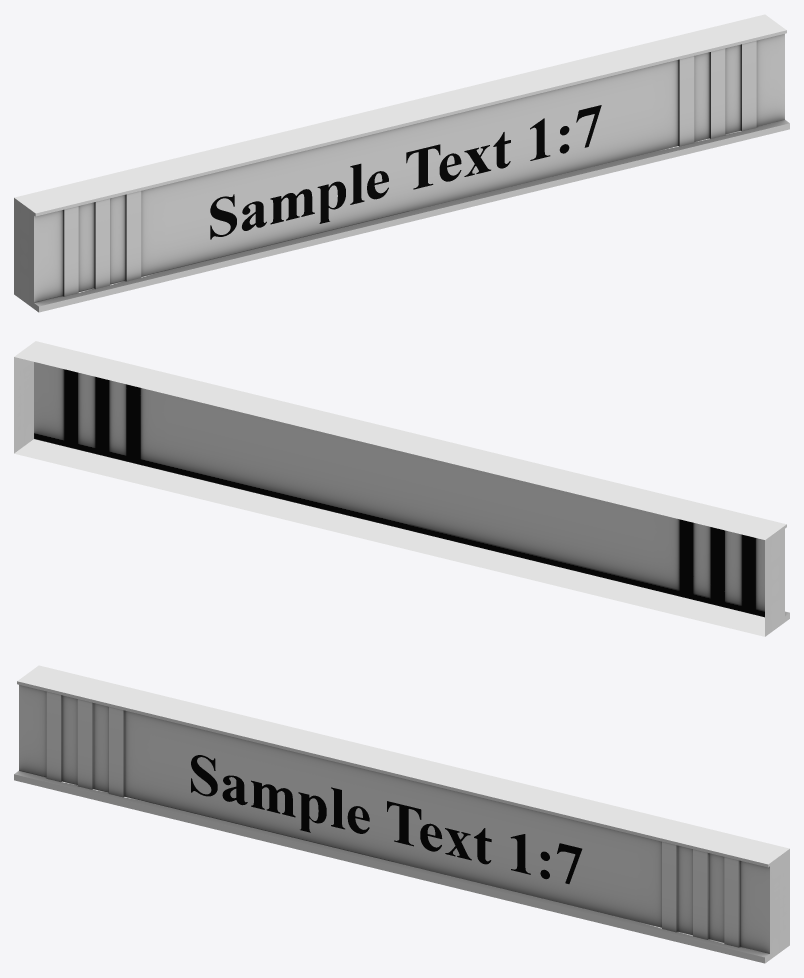
File: name_3.glb
3 views of the same model, one above another, from view 1: azimuth 30°, elevation 25°; view 2: azimuth 150°, elevation 25°; view 3: azimuth 330°, elevation 25° (orthographic).
Parts seen in each view (by area): view 1: name_3, name_3_img; view 2: name_3; view 3: name_3, name_3_img.
Part boxes in pixels (x1=…): name_3: x1=14, y1=14, x2=789, y2=312; name_3_img: x1=210, y1=105, x2=601, y2=239; name_3: x1=14, y1=341, x2=789, y2=636; name_3: x1=14, y1=665, x2=789, y2=963; name_3_img: x1=191, y1=755, x2=582, y2=883.
Size of the model in its own units: 6.5 by 0.8 by 0.3729.
Materials: 2 (2 with a texture image).
